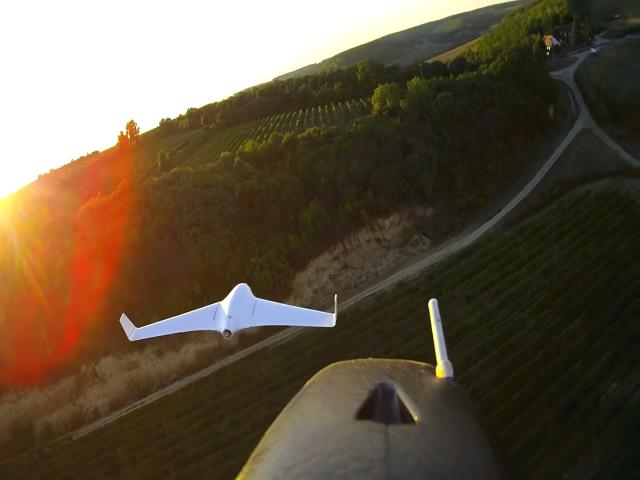plane: (120, 282, 339, 340)
